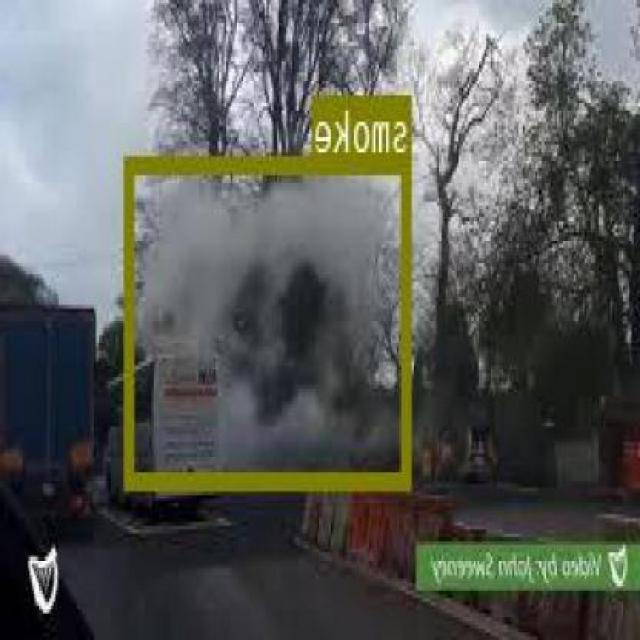Smoke: (127, 152, 413, 485)
